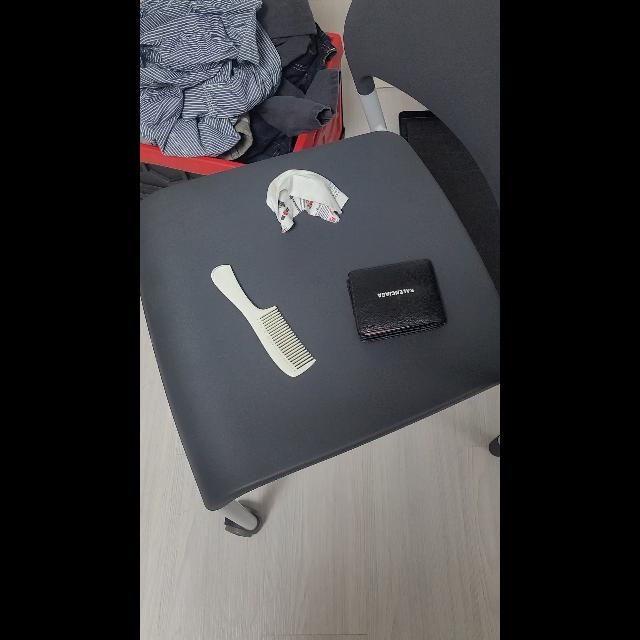COMB: (212, 264, 316, 378)
Glasses cleaning cloth: (266, 168, 348, 234)
WALLET: (346, 258, 448, 342)
